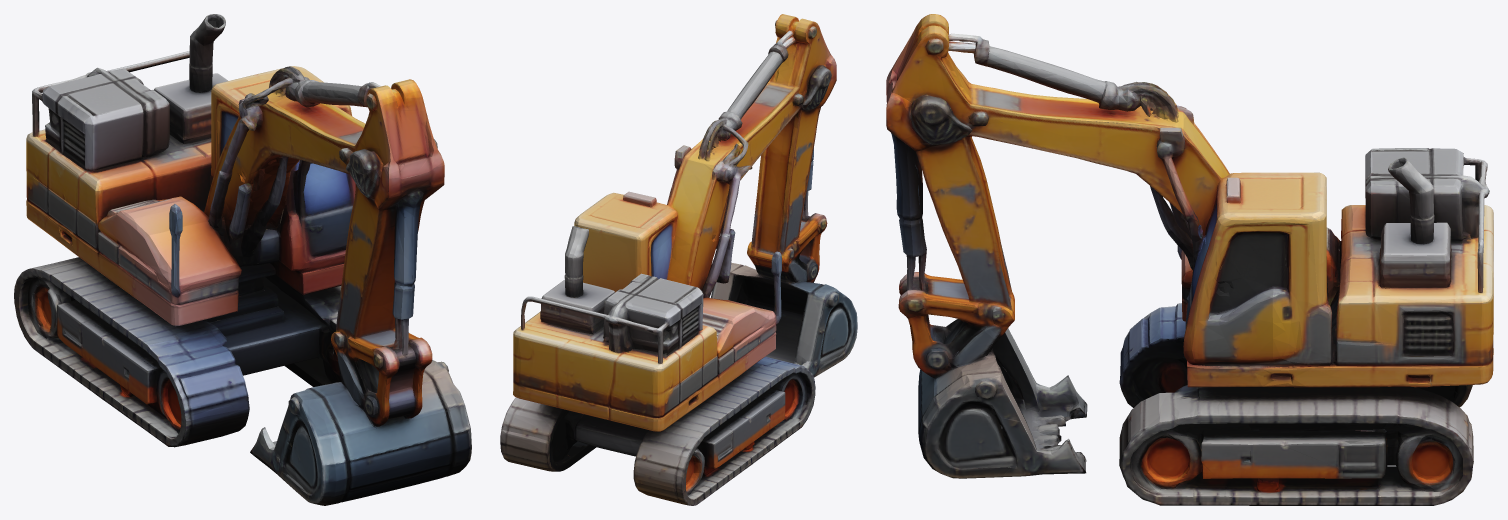
The model's file is typical_vehicle_excavator_3D-CoR1.glb.
3 renders of one model, left to right at view 1: azimuth 30°, elevation 25°; view 2: azimuth 150°, elevation 25°; view 3: azimuth 270°, elevation 25°, orthographic. The views are drawn at different scales.
Parts seen in each view (by area): view 1: world; view 2: world; view 3: world.
Boxes of the visible parts, box(x1,y1,x2,y2) form: world: box(14, 14, 471, 505); world: box(500, 14, 857, 505); world: box(886, 14, 1493, 505).
Size of the model in its own units: 0.4496 by 0.7672 by 0.9932.
Materials: 1 (1 with a texture image).
